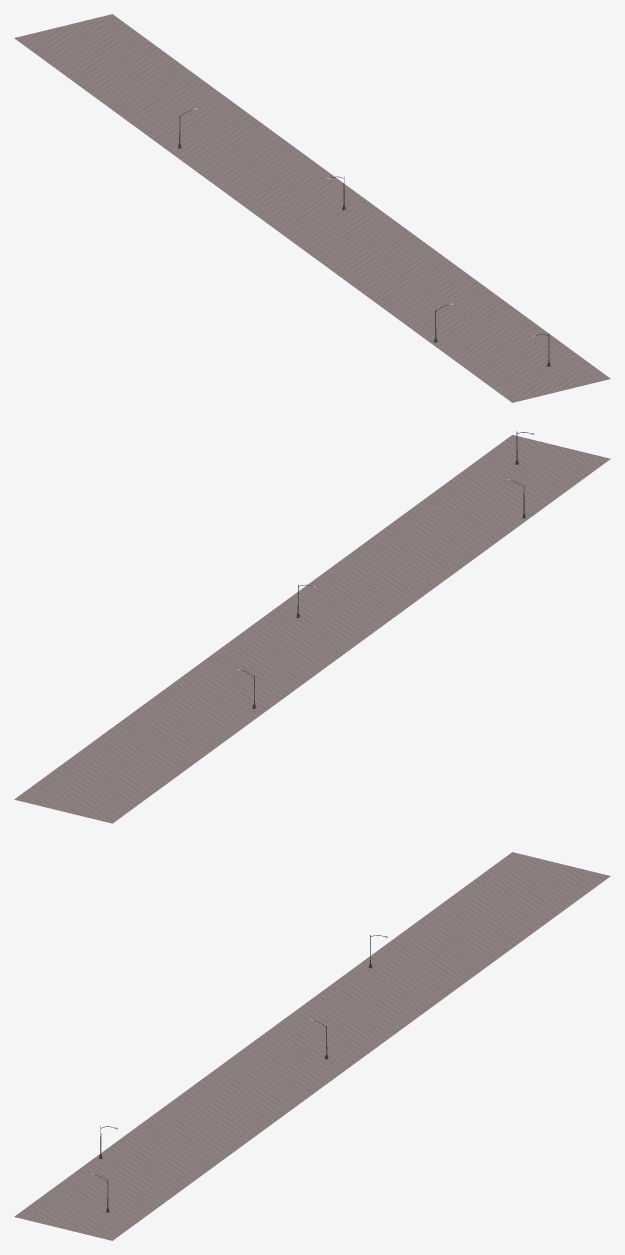
File: koridor2.glb
3 views of the same model, one above another, from view 1: azimuth 30°, elevation 25°; view 2: azimuth 150°, elevation 25°; view 3: azimuth 330°, elevation 25° (orthographic).
Visible parts, largest first — view 1: C-Straight Road; view 2: C-Straight Road; view 3: C-Straight Road.
Part boxes in pixels (box(x1,y1,x2,y2)): C-Straight Road: box(14, 14, 610, 402); C-Straight Road: box(14, 435, 610, 823); C-Straight Road: box(14, 852, 610, 1240).
Bounding box in the file's own units: 16.53 × 5.66 × 145.
Materials: 5 (1 with a texture image).
